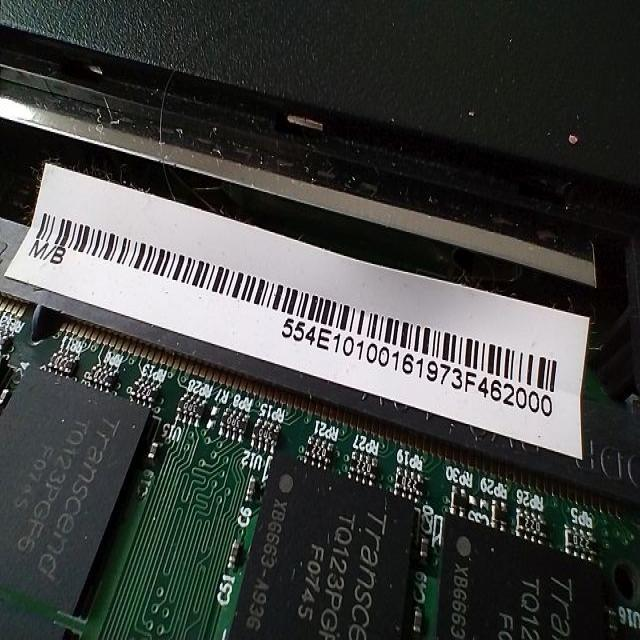capacitor: (220, 531, 248, 580)
